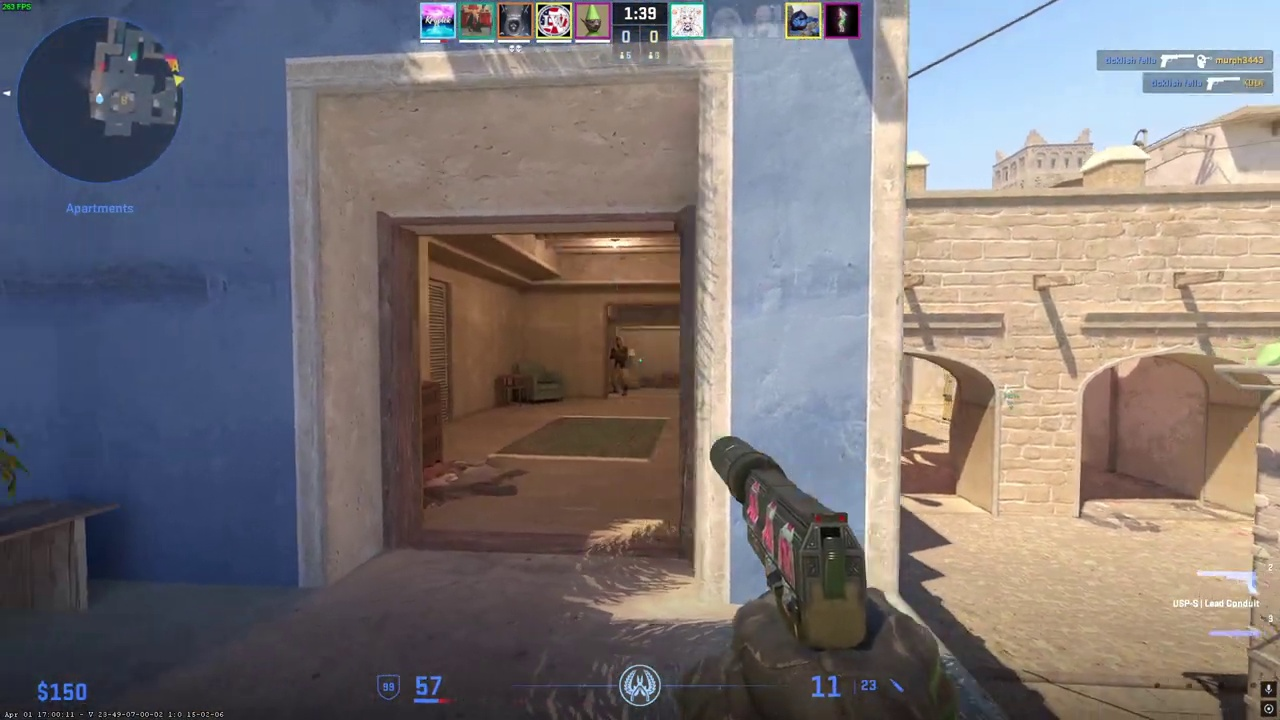Terrorist: (609, 337, 629, 397)
